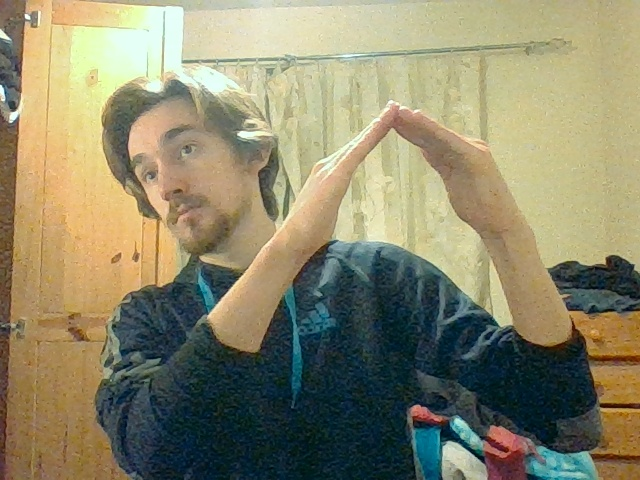home: (319, 100, 495, 199)
